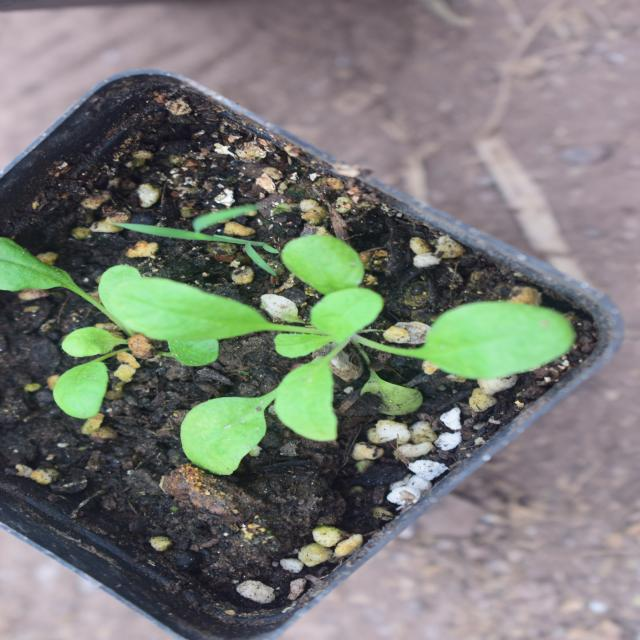Shepherd_Purse: (184, 98, 394, 556)
